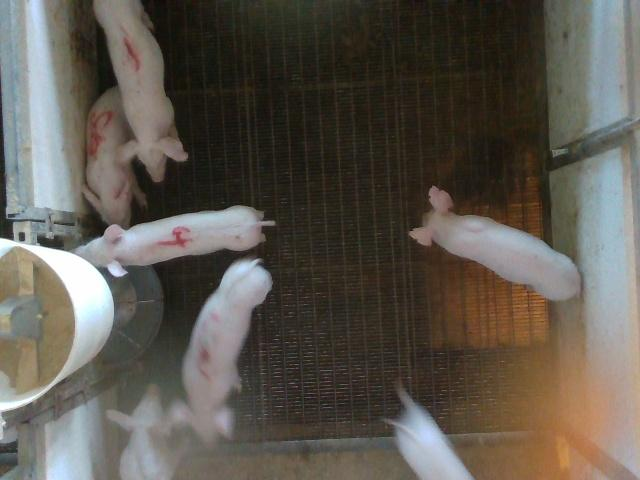pig-1: (94, 0, 188, 181)
pig-3: (170, 259, 271, 444)
pig-4: (74, 205, 275, 276)
pig-5: (82, 86, 146, 228)
